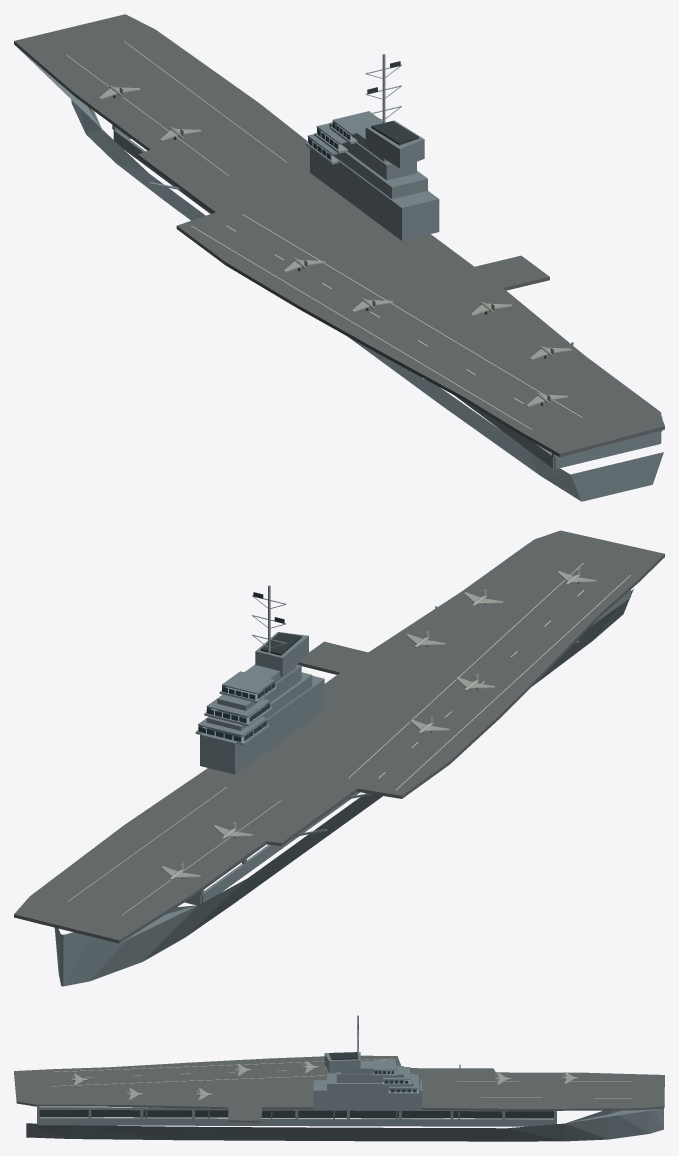
Rendered from uss-yorktown-cv10-far.glb.
The picture shows the model from 3 angles, top to bottom: view 1: azimuth 30°, elevation 25°; view 2: azimuth 150°, elevation 25°; view 3: azimuth 270°, elevation 25°; orthographic projection. The views are drawn at different scales.
Visible parts, largest first — view 1: uss-yorktown-cv10-0-deckPaint, uss-yorktown-cv10-0-hull, uss-yorktown-cv10-0-aircraft, uss-yorktown-cv10-0-paint, uss-yorktown-cv10-0-metal, uss-yorktown-cv10-0-dark; view 2: uss-yorktown-cv10-0-deckPaint, uss-yorktown-cv10-0-hull, uss-yorktown-cv10-0-aircraft, uss-yorktown-cv10-0-metal, uss-yorktown-cv10-0-paint, uss-yorktown-cv10-0-glass, uss-yorktown-cv10-0-dark; view 3: uss-yorktown-cv10-0-deckPaint, uss-yorktown-cv10-0-hull, uss-yorktown-cv10-0-dark, uss-yorktown-cv10-0-aircraft, uss-yorktown-cv10-0-paint, uss-yorktown-cv10-0-metal, uss-yorktown-cv10-0-glass.
Part boxes in pixels (box(x1,y1,x2,y2)): uss-yorktown-cv10-0-deckPaint: box(14, 14, 664, 457); uss-yorktown-cv10-0-hull: box(16, 46, 663, 501); uss-yorktown-cv10-0-aircraft: box(99, 85, 571, 407); uss-yorktown-cv10-0-paint: box(66, 41, 582, 429); uss-yorktown-cv10-0-metal: box(305, 54, 401, 164); uss-yorktown-cv10-0-dark: box(113, 61, 546, 405); uss-yorktown-cv10-0-deckPaint: box(14, 530, 664, 943); uss-yorktown-cv10-0-hull: box(54, 543, 633, 986); uss-yorktown-cv10-0-aircraft: box(161, 568, 596, 880); uss-yorktown-cv10-0-metal: box(195, 585, 286, 745); uss-yorktown-cv10-0-paint: box(68, 563, 630, 915); uss-yorktown-cv10-0-glass: box(198, 682, 274, 741); uss-yorktown-cv10-0-dark: box(181, 582, 579, 889); uss-yorktown-cv10-0-deckPaint: box(14, 1055, 664, 1122); uss-yorktown-cv10-0-hull: box(26, 1052, 663, 1141); uss-yorktown-cv10-0-dark: box(39, 1024, 553, 1118); uss-yorktown-cv10-0-aircraft: box(71, 1061, 578, 1100); uss-yorktown-cv10-0-paint: box(51, 1058, 632, 1098); uss-yorktown-cv10-0-metal: box(357, 1015, 419, 1094); uss-yorktown-cv10-0-glass: box(374, 1061, 419, 1092).
Bounding box in the file's own units: 63.78 × 58 × 271.
